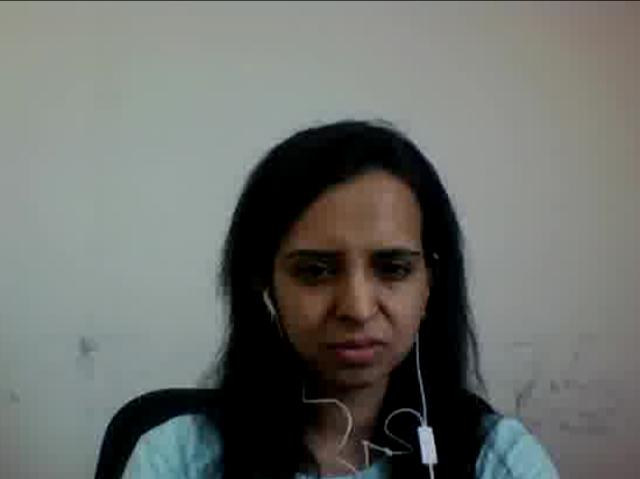bingung: (268, 181, 424, 396)
